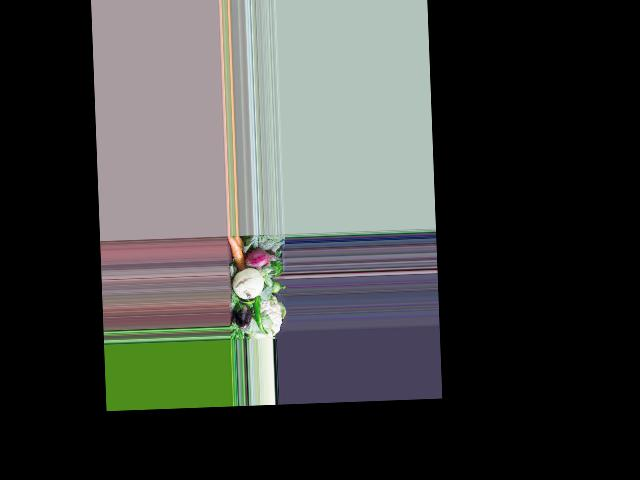carrot: (226, 234, 247, 264)
